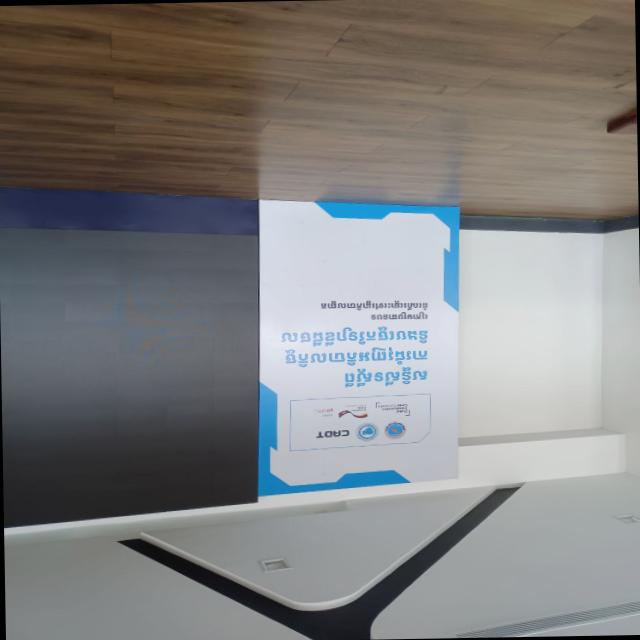Yolov11kh: (278, 345, 429, 369), (278, 326, 430, 348), (339, 366, 433, 390), (315, 297, 428, 312), (368, 311, 429, 321)
